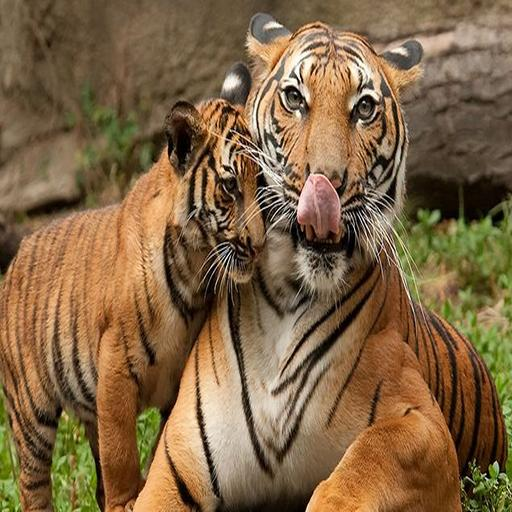Tiger: (140, 12, 512, 512), (0, 90, 270, 508)
